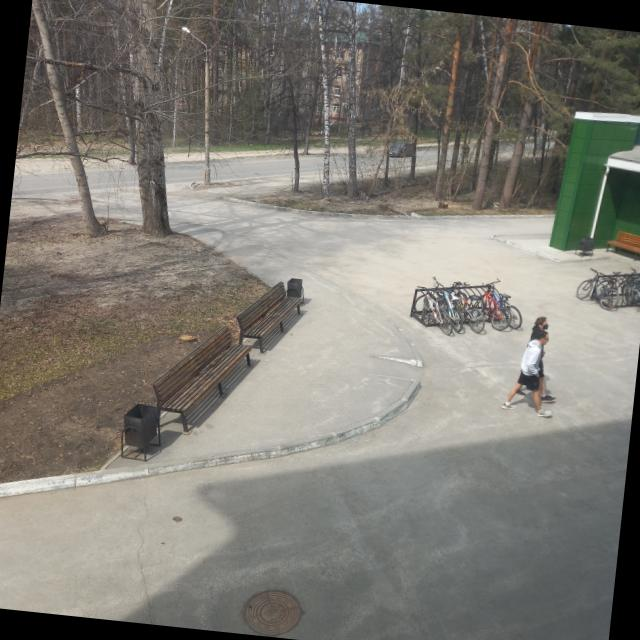person: (502, 326, 560, 417), (517, 314, 564, 404)
